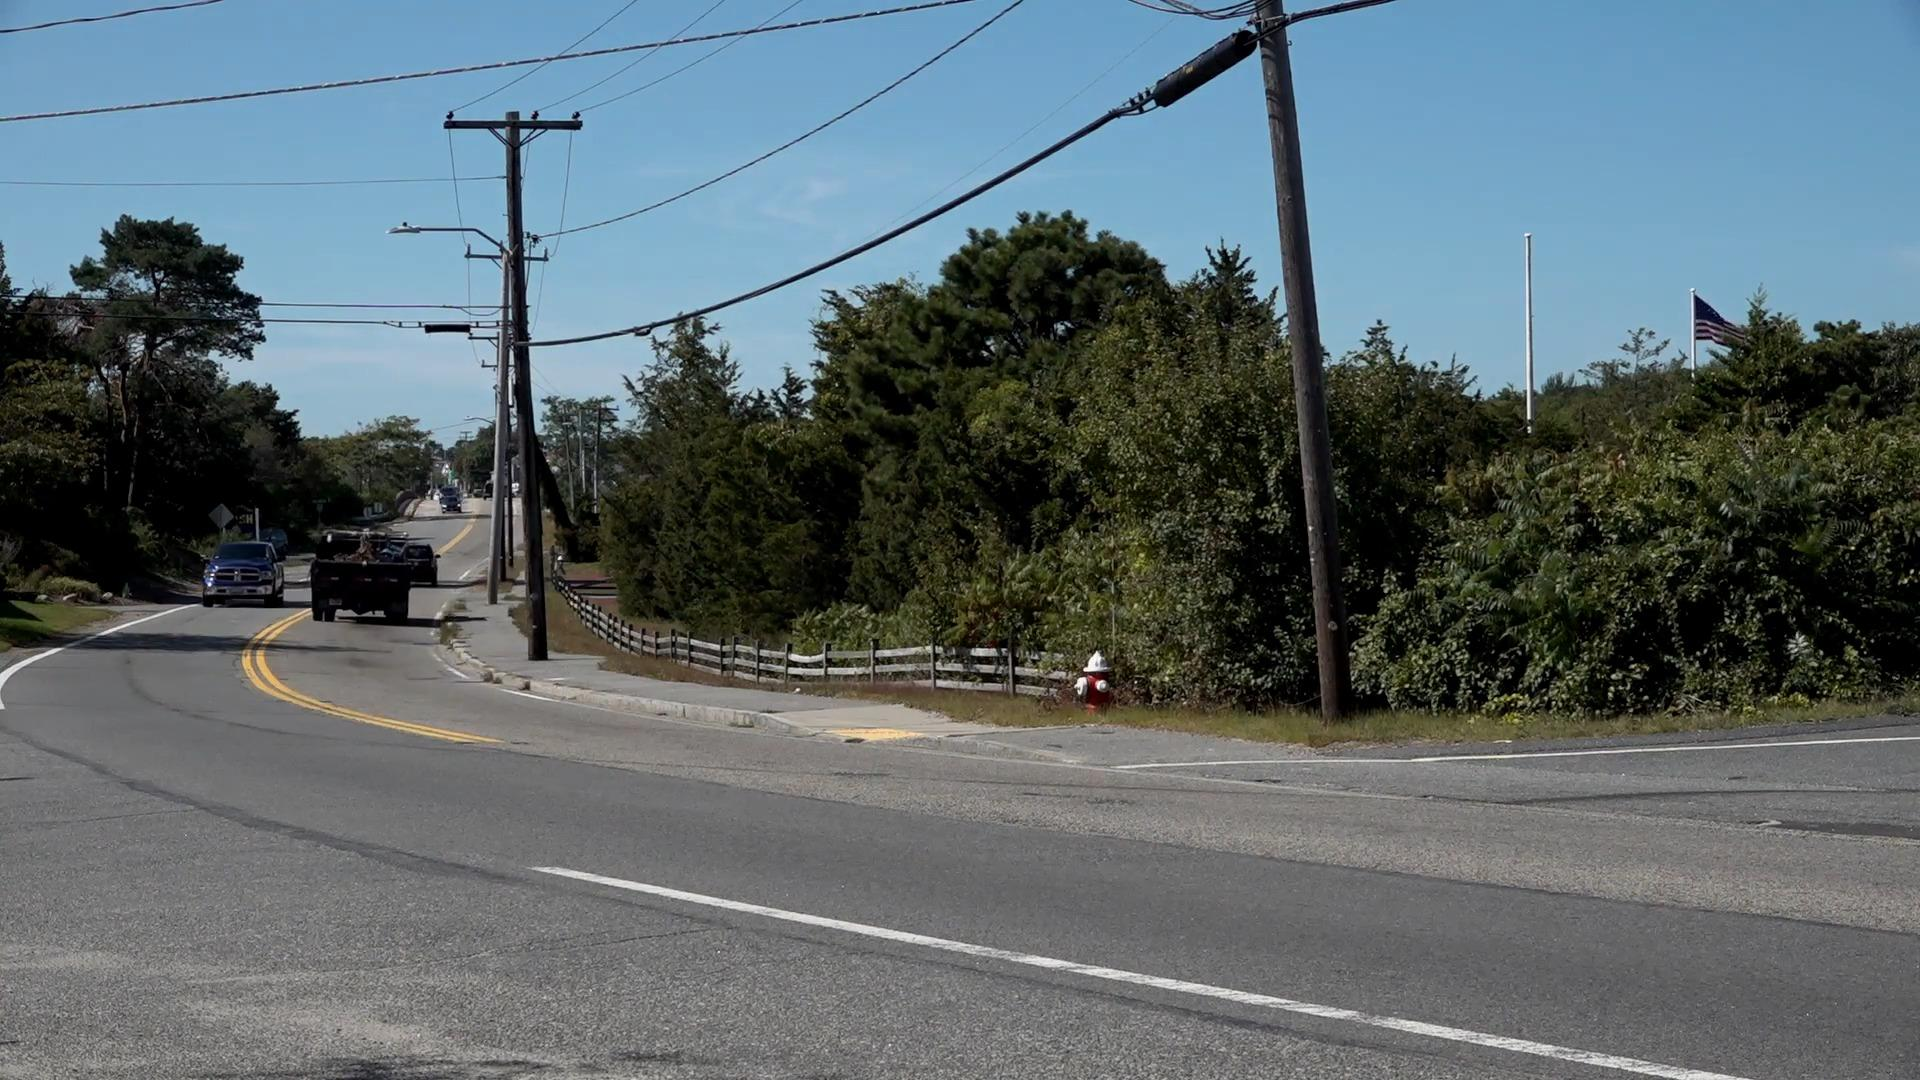pickup: (201, 541, 284, 607)
truck: (309, 531, 417, 624)
